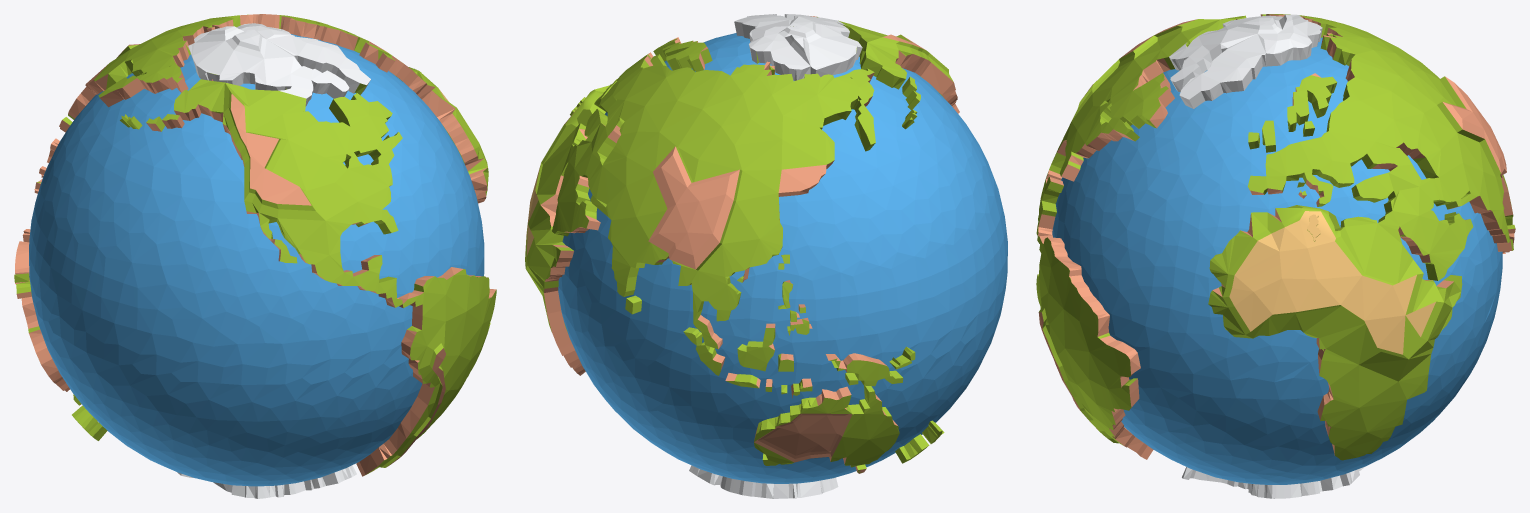
File: earth 1.fbx
3 views of the same model, side by side, from view 1: azimuth 30°, elevation 25°; view 2: azimuth 150°, elevation 25°; view 3: azimuth 270°, elevation 25° (orthographic).
Visible parts, largest first — view 1: Earth; view 2: Earth; view 3: Earth.
Boxes of the visible parts, <box> form: Earth: <box>14,14,496,498</box>; Earth: <box>525,14,1007,498</box>; Earth: <box>1036,14,1515,498</box>.
Bounding box in the file's own units: 209 × 220 × 209.
1 material, 1 textured.
